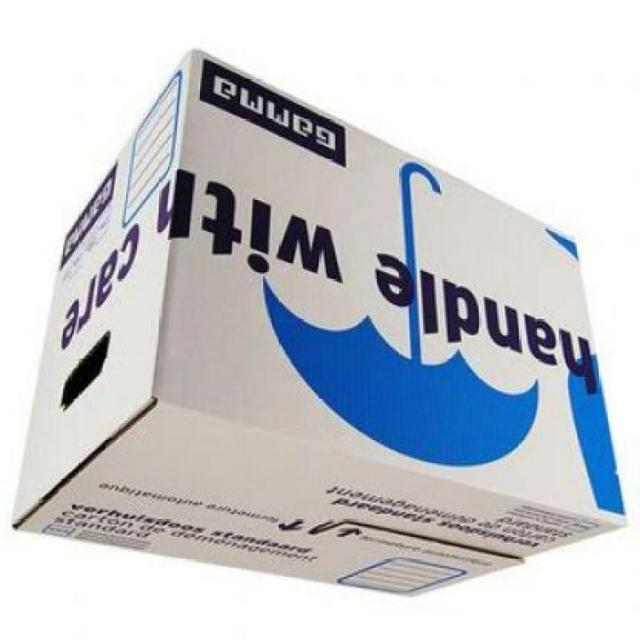box: (9, 45, 632, 601)
